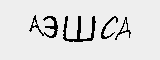Т: (15, 31, 46, 49)
У: (122, 22, 135, 42)
Ч: (66, 26, 90, 50), (45, 28, 65, 50)
Я: (109, 25, 124, 43)
Ө: (92, 26, 110, 46)
